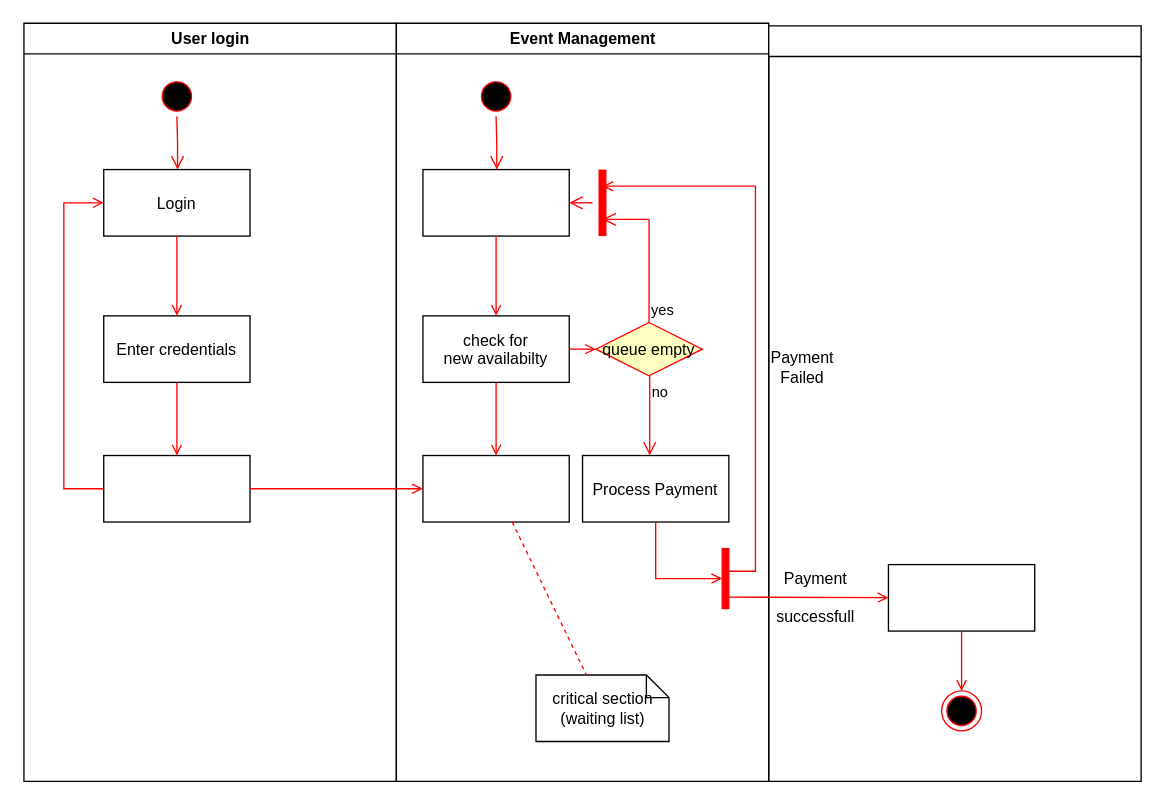
Some shapes in this 1164 by 805 pixel diagram are drawn without their labels. Here are the shapes that lost their labels. From the top down, the centre of each, then its label:
(495,202): List of party halls
(176,488): validate credentails
(495,488): selecting event manager
(961,597): Checkout
